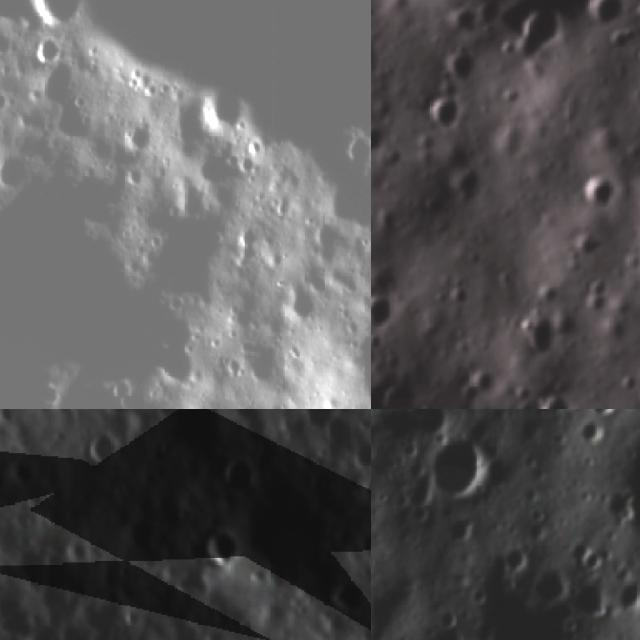crater: (425, 429, 496, 504), (504, 0, 575, 68), (570, 166, 635, 218), (419, 87, 468, 138), (121, 510, 168, 563), (520, 313, 565, 366), (82, 426, 131, 472), (436, 44, 486, 88), (443, 156, 487, 205), (328, 569, 371, 618), (6, 451, 49, 500), (218, 446, 261, 494), (198, 87, 244, 131), (200, 521, 242, 569), (534, 562, 571, 616), (571, 576, 613, 623), (495, 531, 532, 577), (371, 286, 403, 335), (445, 0, 488, 36), (320, 411, 361, 448), (445, 512, 483, 550), (371, 31, 391, 98), (26, 0, 79, 25), (584, 0, 628, 30), (528, 386, 579, 409), (617, 567, 640, 611), (346, 434, 371, 473), (345, 131, 371, 168), (574, 417, 604, 449), (301, 409, 345, 429), (123, 123, 151, 150), (31, 40, 66, 60), (0, 84, 18, 113), (581, 409, 622, 421), (358, 467, 371, 504), (121, 170, 142, 188)
